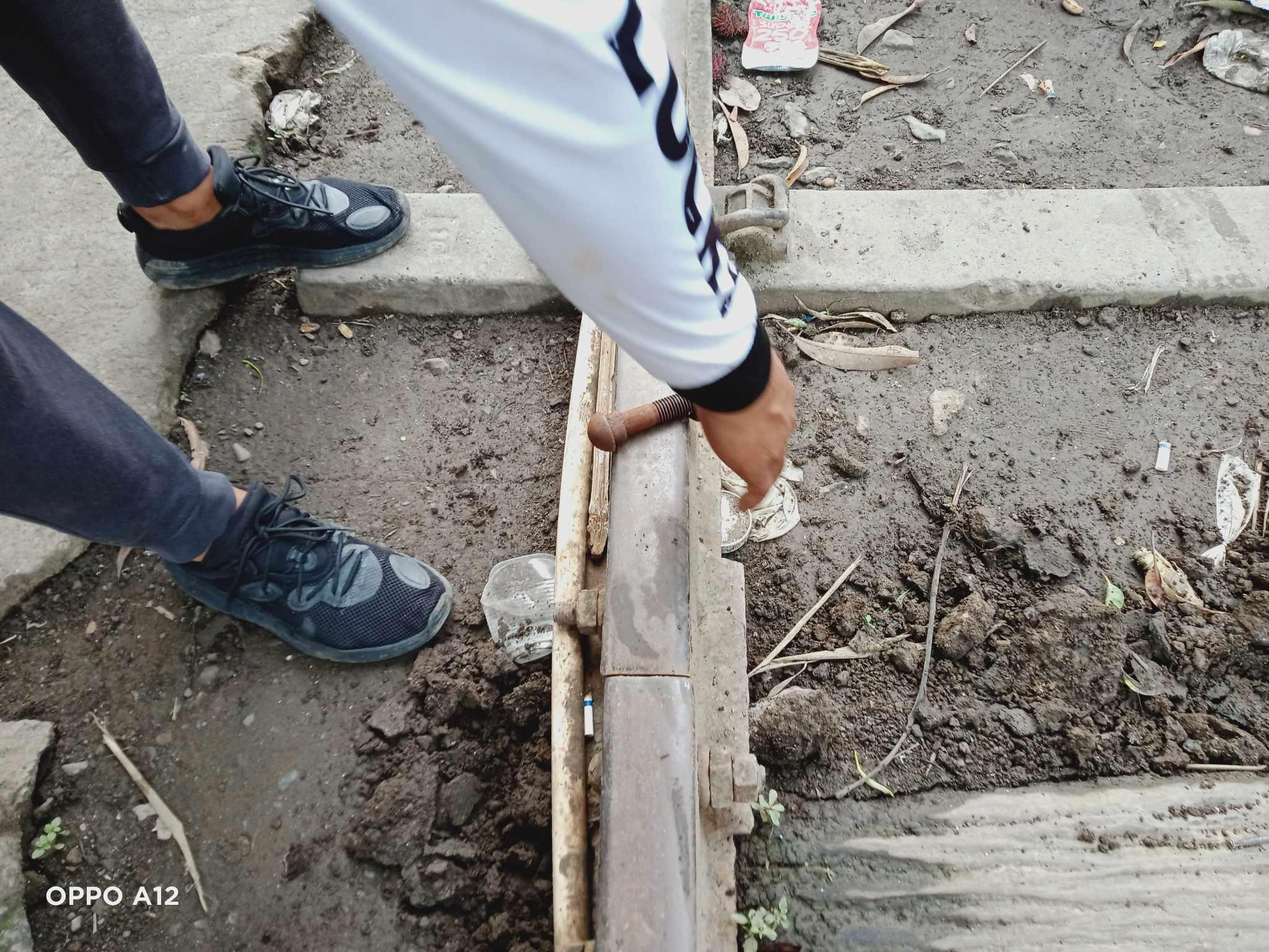railway-gap: (564, 605, 728, 756)
